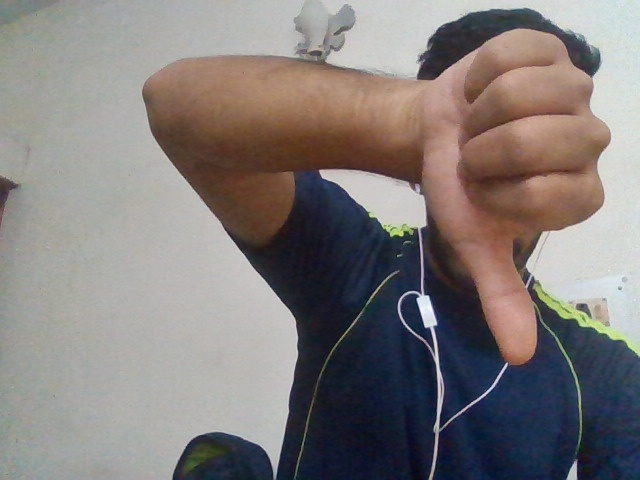no: (416, 37, 618, 361)
